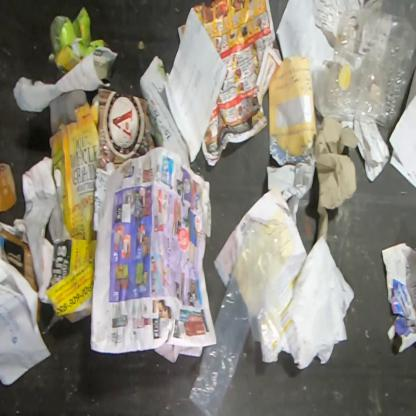cardboard: (50, 88, 99, 240), (91, 87, 156, 171), (0, 164, 17, 211)
rigid_plastic: (325, 1, 415, 128)
soft_plastic: (187, 221, 281, 415)
